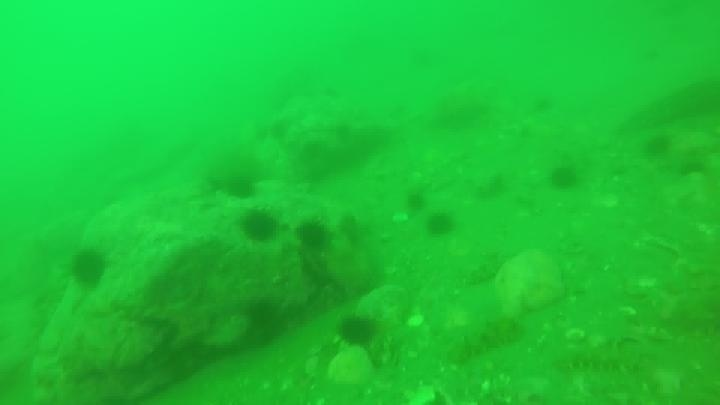echinus: (68, 247, 109, 290), (336, 313, 379, 349), (239, 208, 280, 244), (243, 296, 282, 333), (295, 219, 331, 252), (223, 174, 258, 202), (337, 212, 365, 246), (424, 210, 456, 238), (548, 164, 580, 192), (641, 132, 674, 159), (403, 189, 428, 213), (304, 141, 329, 160), (270, 119, 288, 138), (334, 121, 350, 142), (317, 82, 335, 98), (534, 100, 552, 116)
holothurian: (449, 314, 525, 363), (553, 345, 638, 376), (462, 249, 506, 288)
